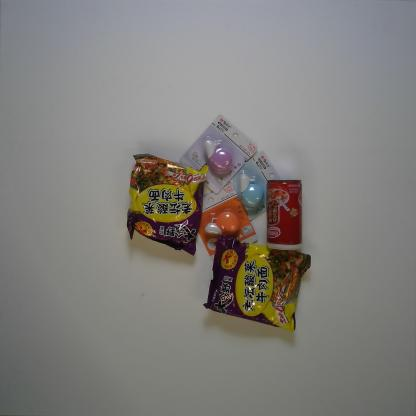Canned Food: (264, 178, 304, 252)
Instant Noodles: (202, 234, 311, 333), (125, 152, 210, 258)
Stationery: (178, 114, 258, 195), (197, 183, 259, 260), (224, 152, 281, 222)
